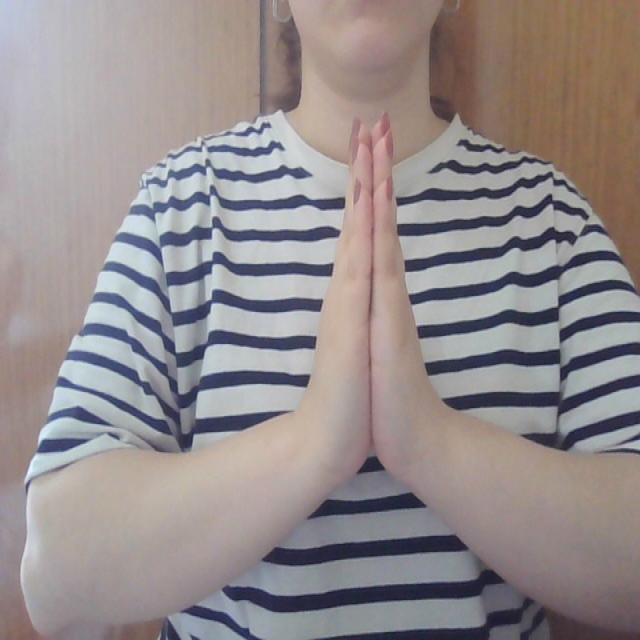Ozur-Dilemek: (297, 100, 455, 524)
